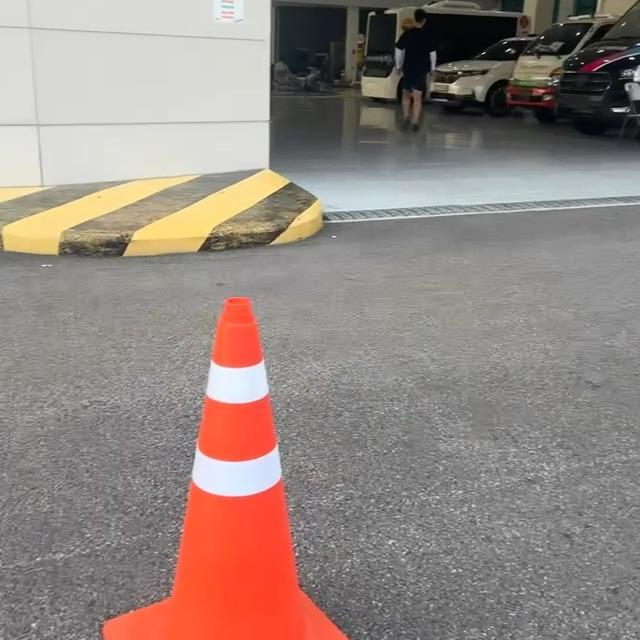fallen_object: (87, 297, 434, 640)
